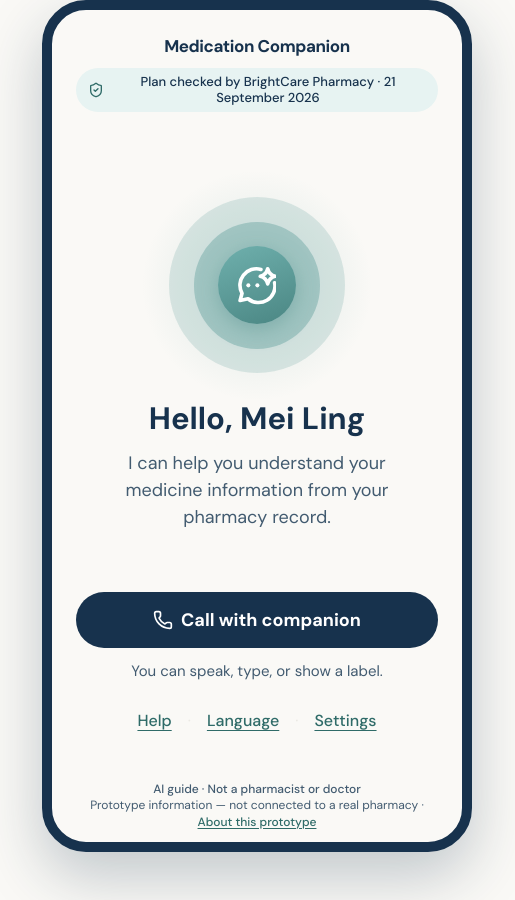
Test case: contextual controls appear only when they apply › the message pill: the send arrow is disabled until text is typed; Enter sends through the same path as speech
The width and height of the screenshot is (515, 900).
Click the button "Call with companion" at (257,620), box [76,592,438,648]
Wait 400 ms
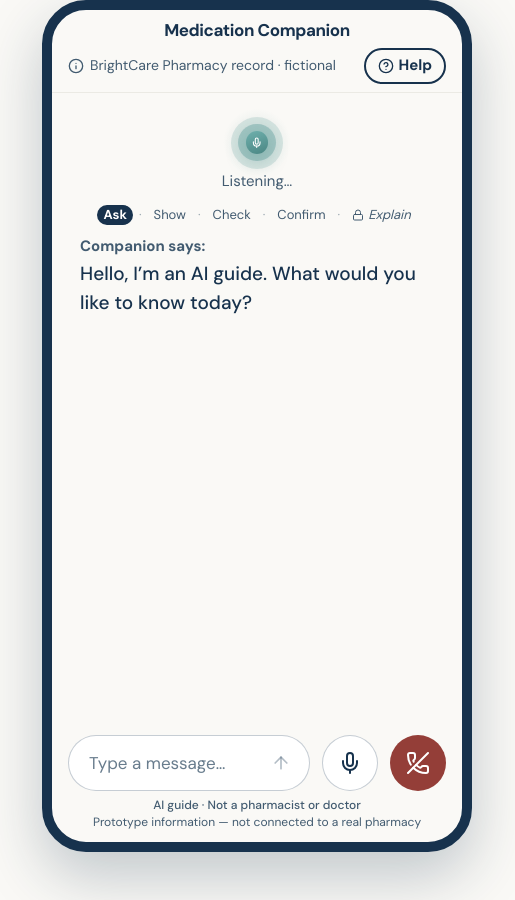
expect the button named "Send message" is disabled: met, box [261,743,301,783]
Type "What is this for?" into the field labelled "Type a message…" at (171,763), box [89,736,253,790]
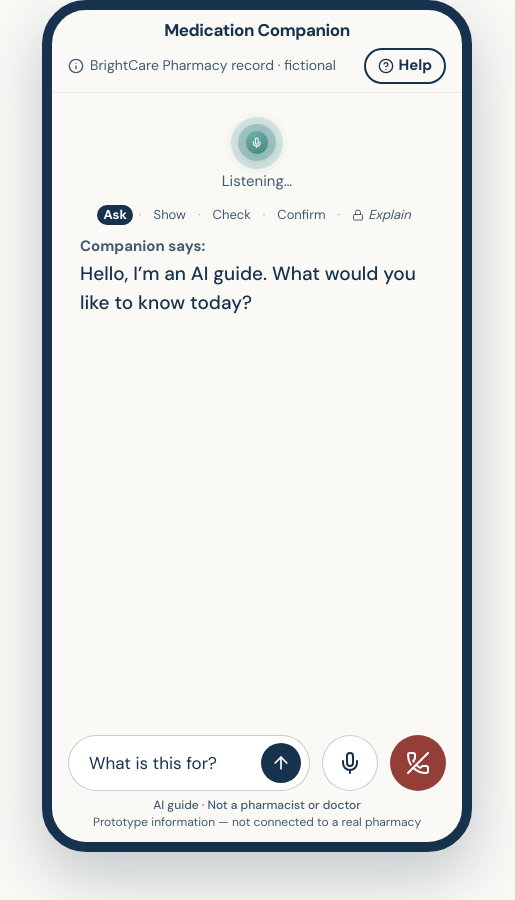
expect the button named "Send message" is enabled: met, box [261,743,301,783]
Submit the form named "type a message", box [68,735,310,791]
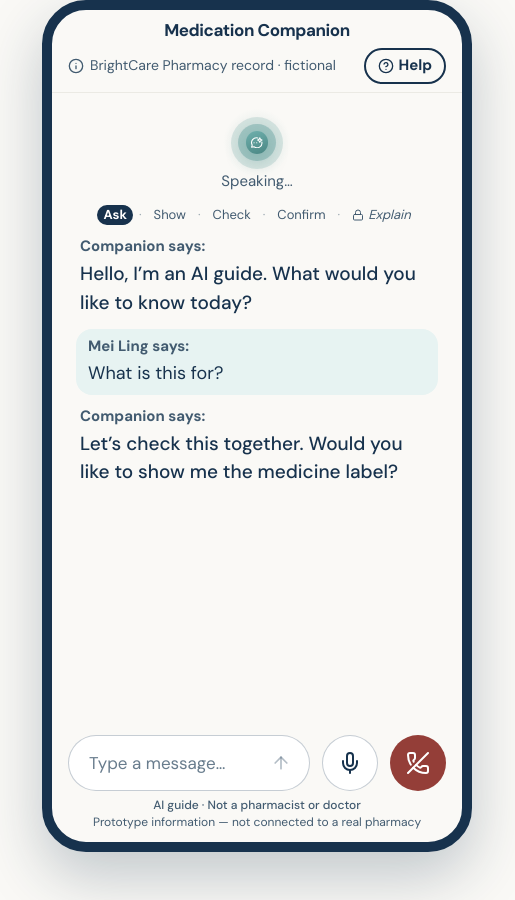
expect the text "Let’s check this together" is shown: met, box [80,430,403,484]
expect the field labelled "Type a message…" is empty: met, box [89,736,253,790]
